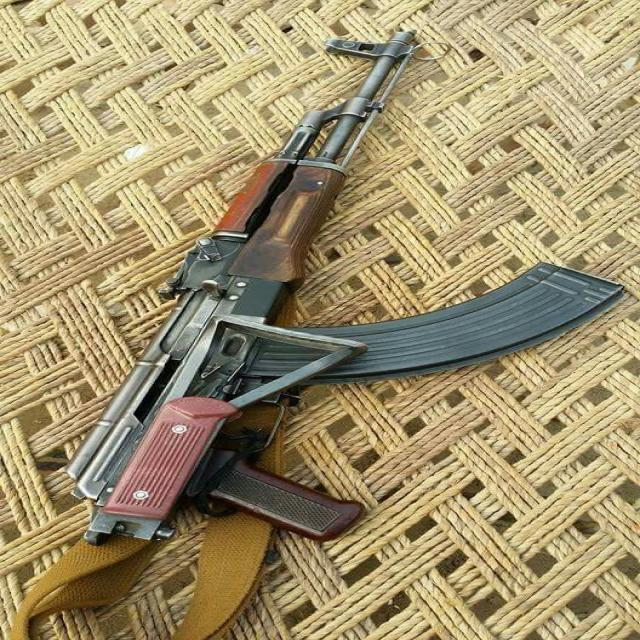ak: (33, 25, 623, 634)
